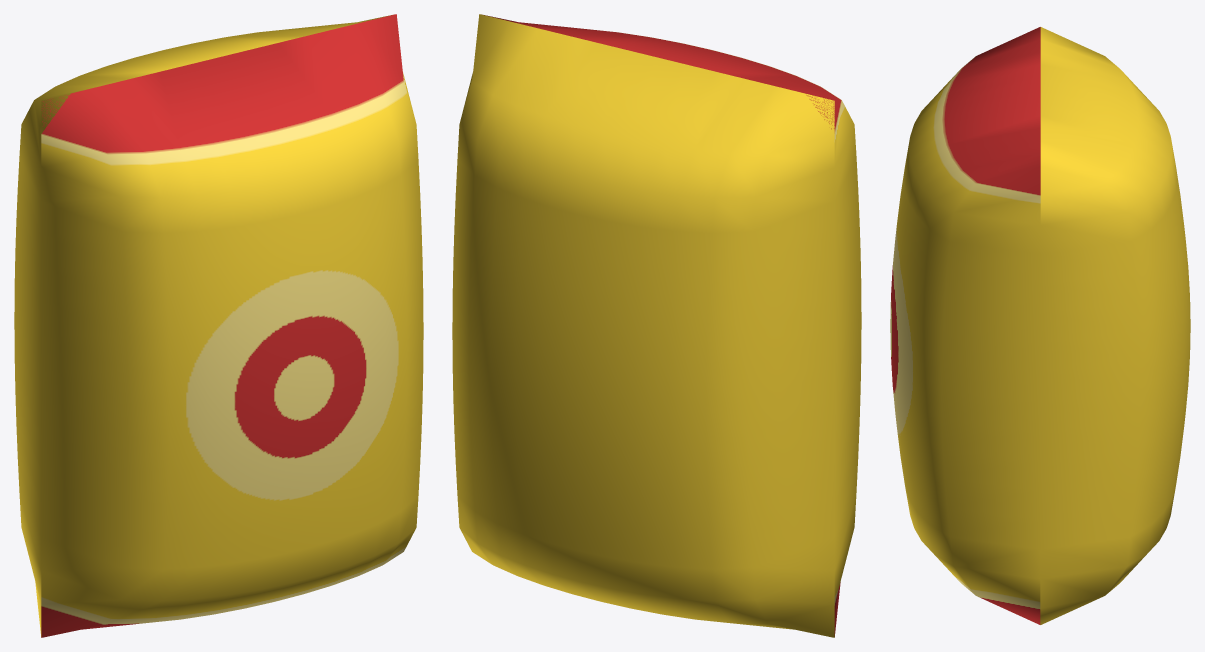
The model's file is Popcorn.fbx.
3 renders of one model, left to right at view 1: azimuth 30°, elevation 25°; view 2: azimuth 150°, elevation 25°; view 3: azimuth 270°, elevation 25°, orthographic. The views are drawn at different scales.
Visible parts, largest first — view 1: Popcorn; view 2: Popcorn; view 3: Popcorn.
Part boxes in pixels (x1,y1,x2,y2): Popcorn: (14, 14, 423, 637); Popcorn: (452, 14, 861, 637); Popcorn: (890, 27, 1190, 624).
Size of the model in its own units: 0.18 by 0.26 by 0.15.
2 materials, 1 textured.
